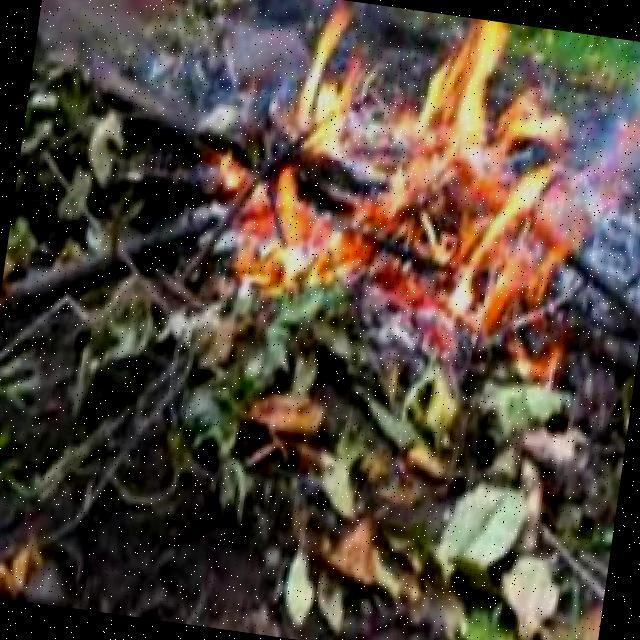Fire: (219, 0, 607, 322)
